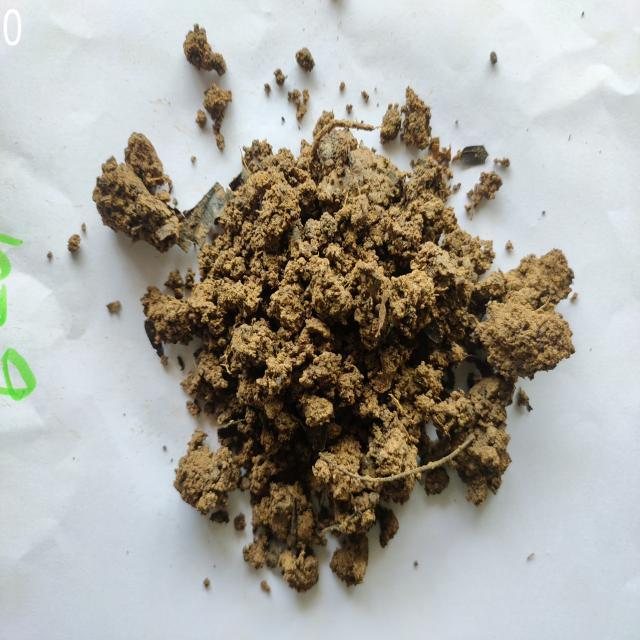soil: (235, 202, 442, 438)
